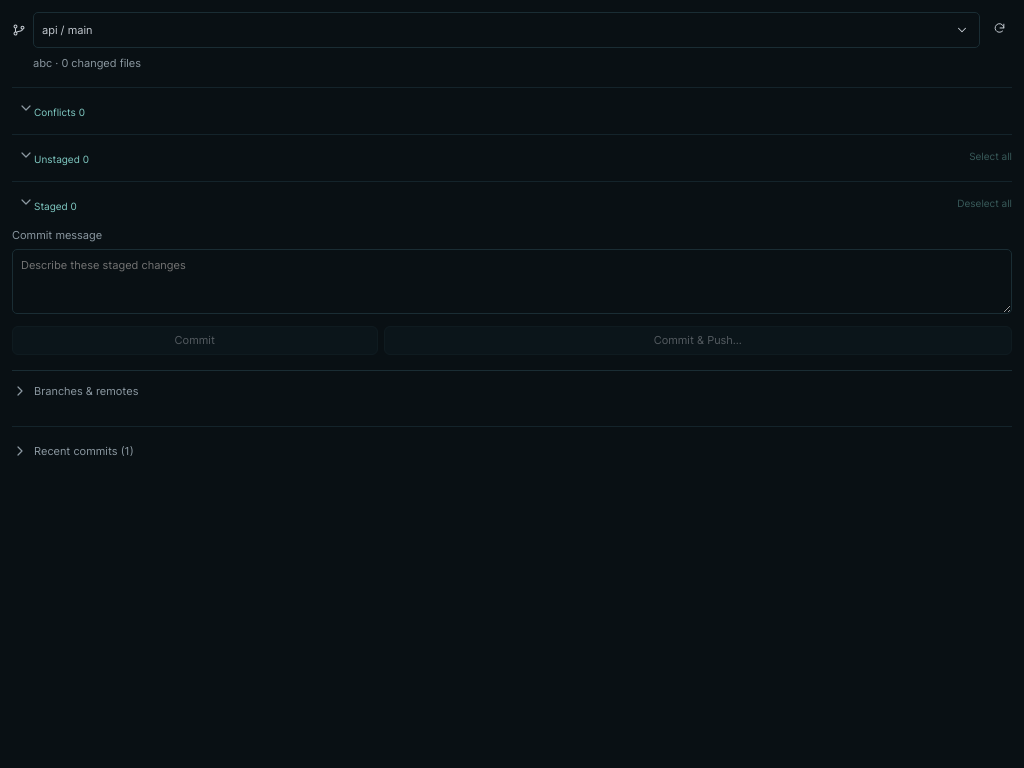
Test: renders recent commits as read-only per-file before/after comparisons
Click the button with class "git-history-toggle": (79, 451) [12,443,1012,459]
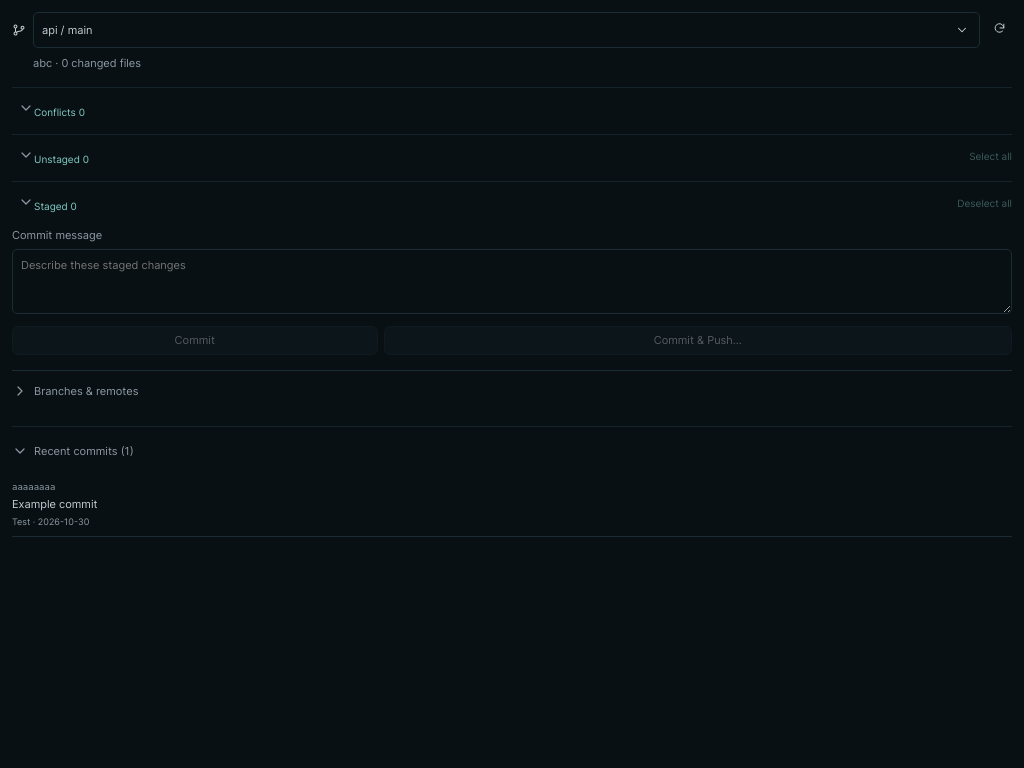
Click the button with class "git-history": (34, 487) [12,473,1012,537]
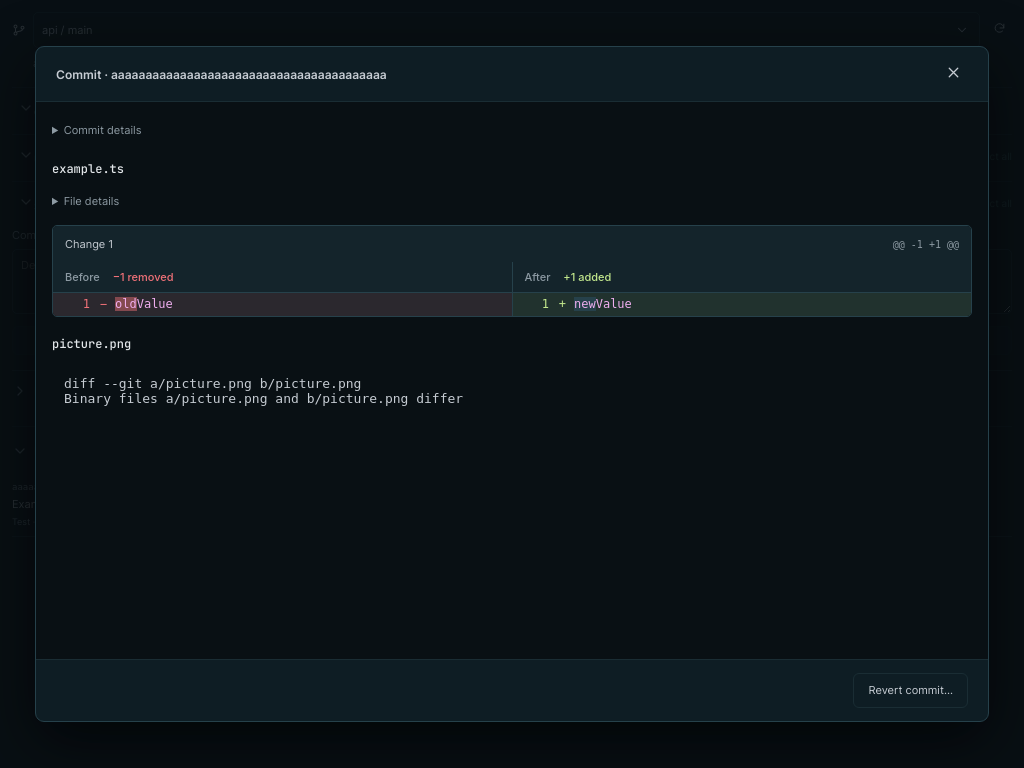
Now the table named "Code changes before and after" is shown, box [53,262,971,316]
Now the dialog named "Git diff" shows "example.ts", box [52,161,124,177]
Now the dialog named "Git diff" shows "oldValue"
